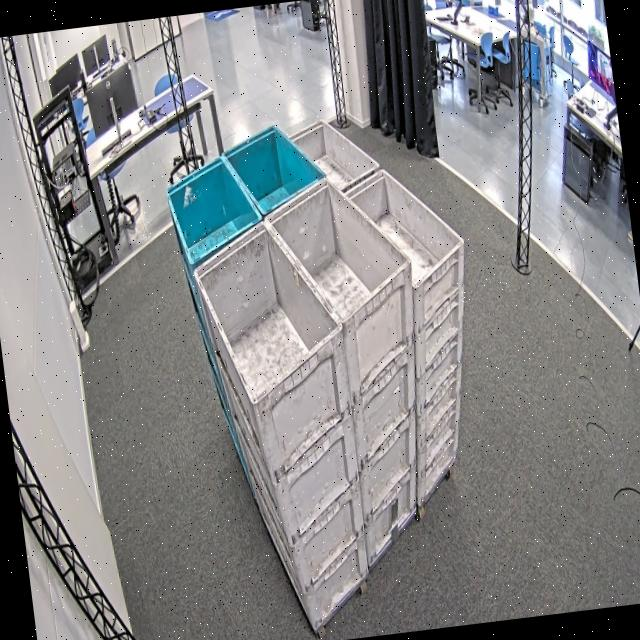Roll3G: (339, 156, 470, 298), (284, 110, 383, 198)
Roll4G: (187, 210, 350, 410), (258, 166, 419, 332)
RollB4: (161, 150, 267, 266), (218, 116, 330, 218)
